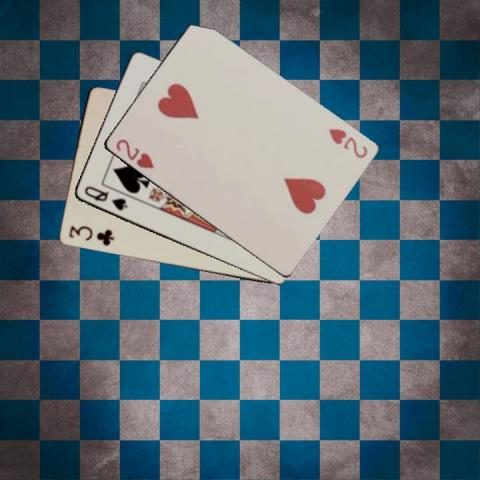2h: (325, 125, 368, 160), (112, 136, 155, 170)
3c: (66, 223, 116, 247)
Qs: (80, 182, 128, 212)
